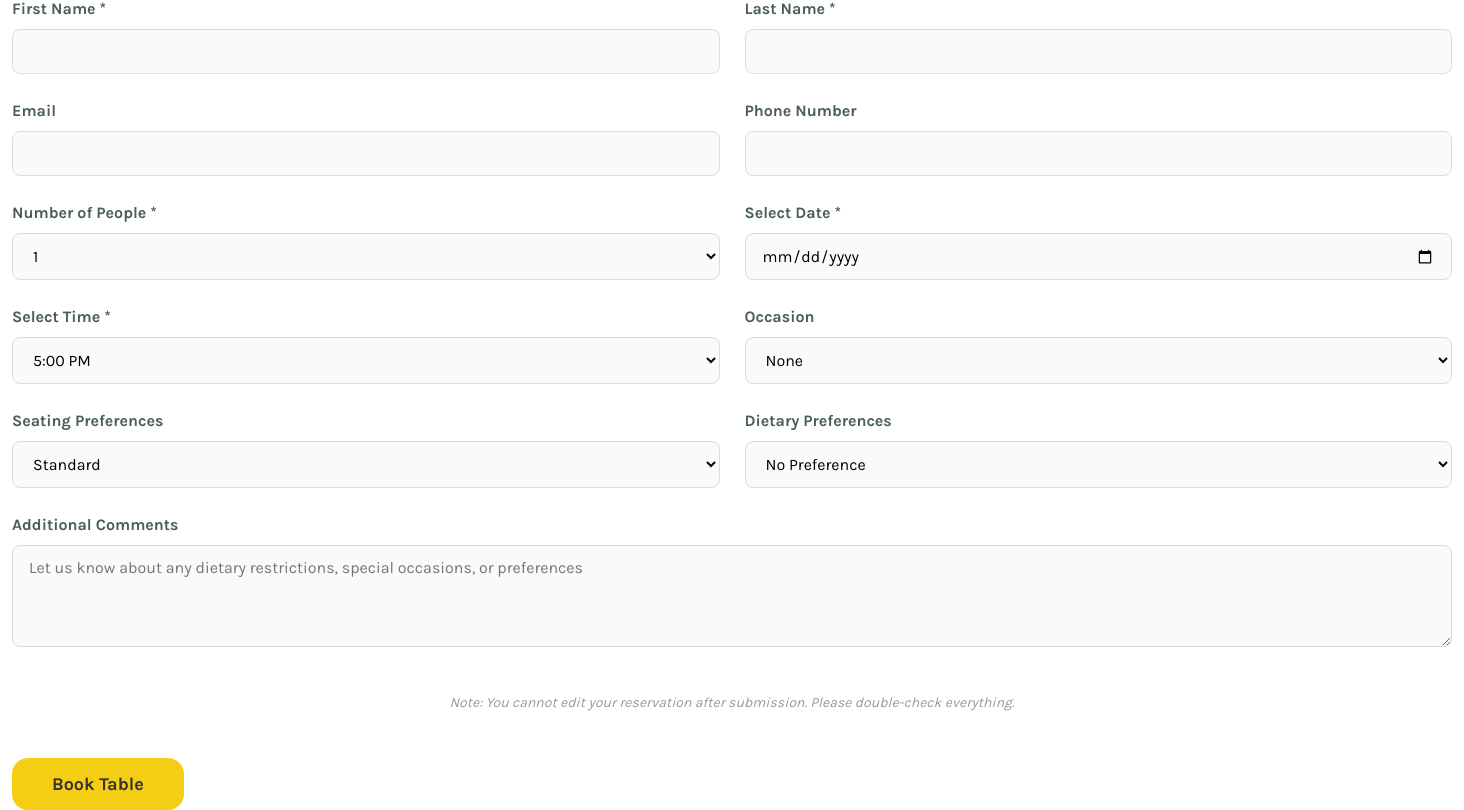
Test: BookingForm validation › shows validation errors when required fields are missing
Click the button "Book Table" at (98,784), box x1=12 y1=758 x2=184 y2=809
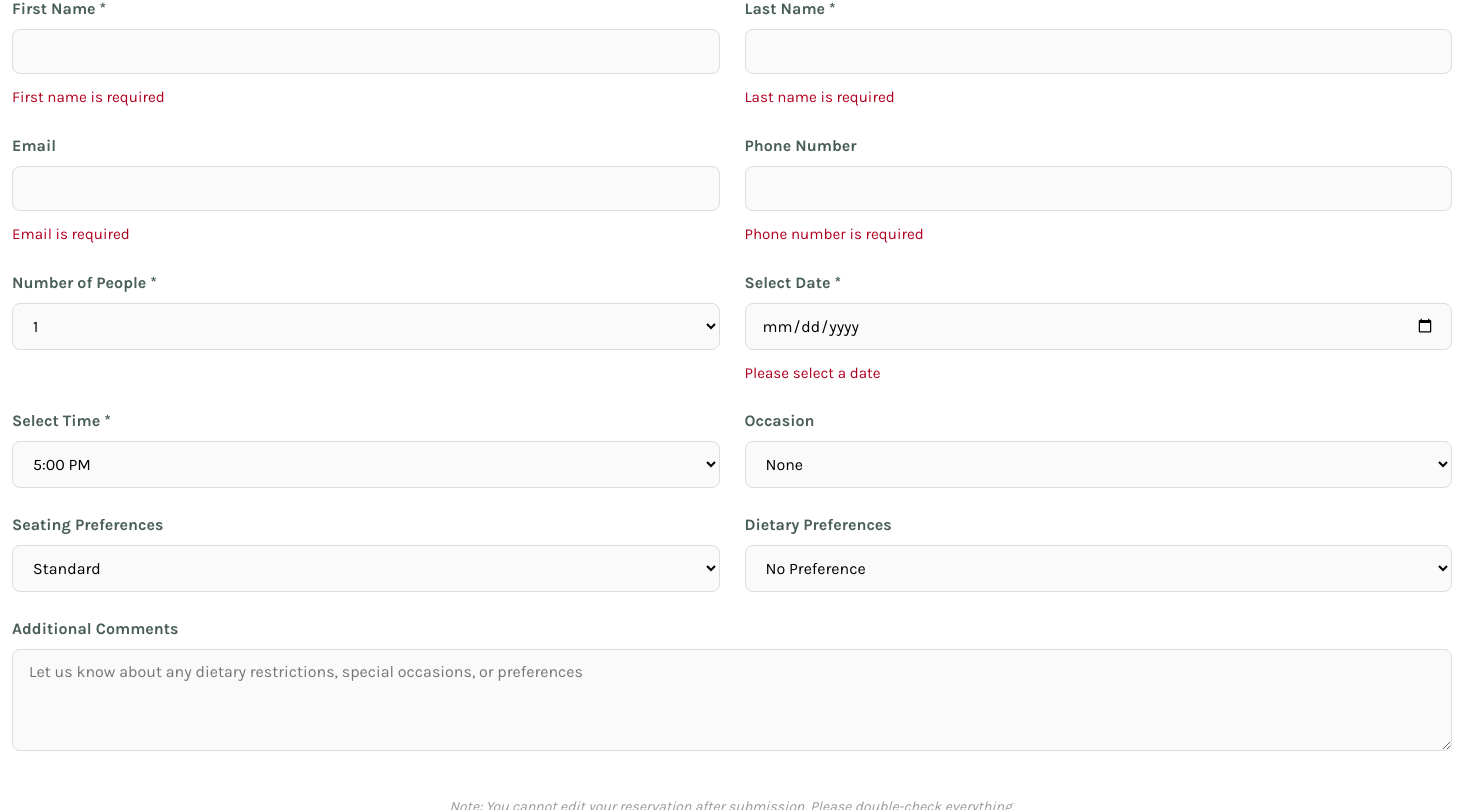
Result: the text "First name is required" is shown at x1=12 y1=88 x2=165 y2=106
Result: the text "Last name is required" is shown at x1=744 y1=88 x2=895 y2=106
Result: the text "Email is required" is shown at x1=12 y1=225 x2=130 y2=243
